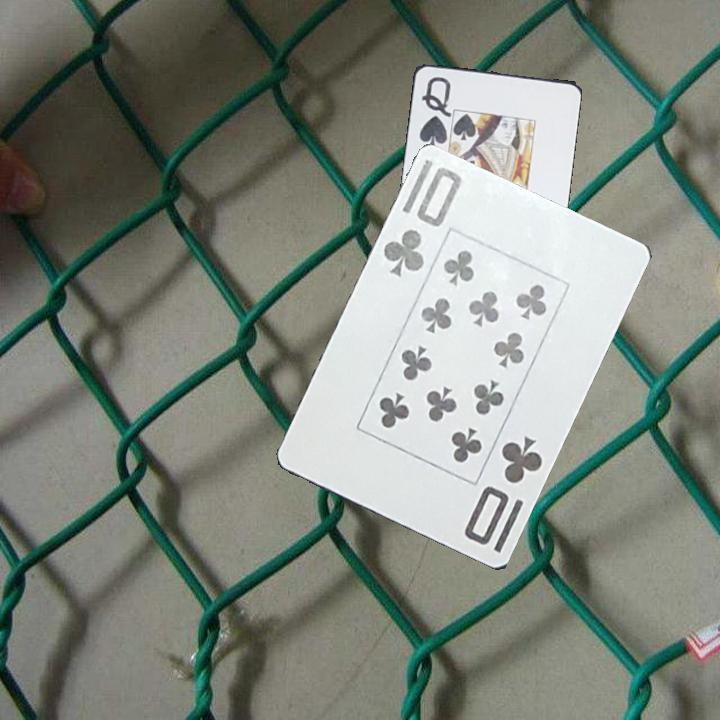Qs: (415, 73, 454, 150)
Tc: (372, 156, 470, 281), (460, 433, 546, 549)
